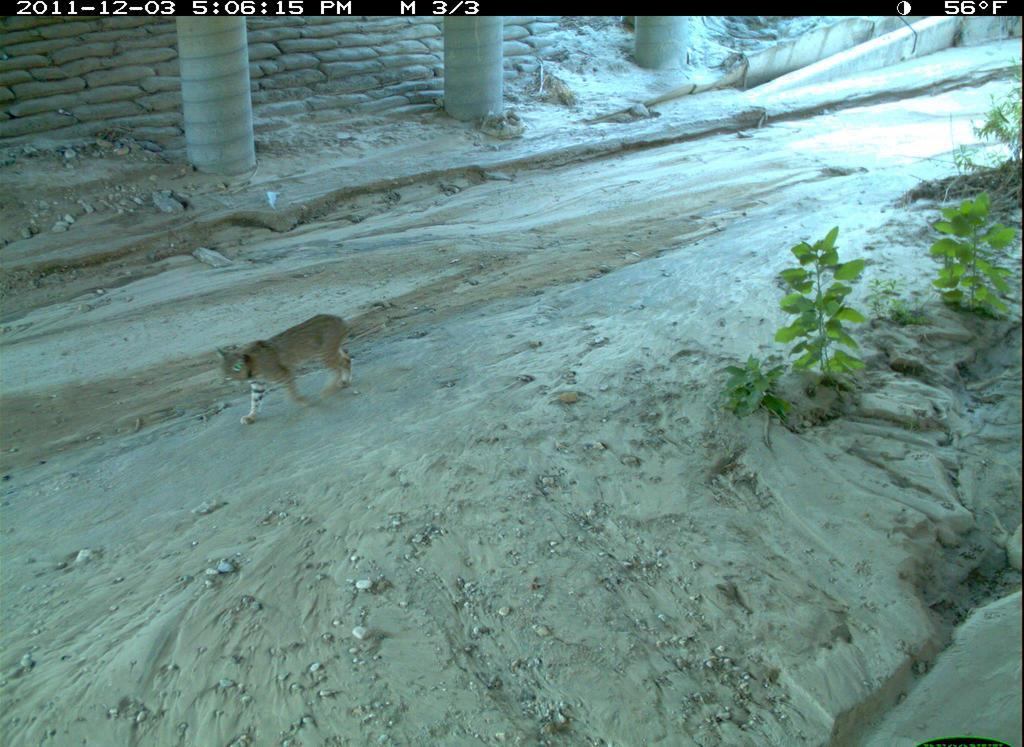bobcat: (216, 305, 390, 436)
